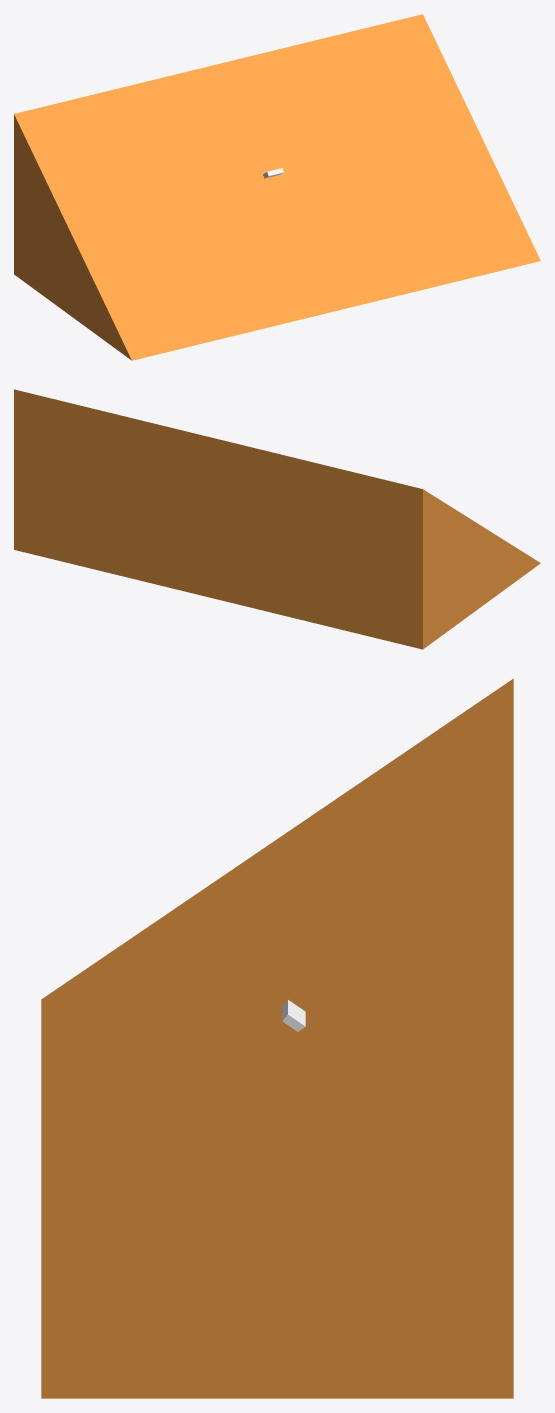
Rendered from ramp.glb.
3 renders of one model, top to bottom at view 1: azimuth 30°, elevation 25°; view 2: azimuth 150°, elevation 25°; view 3: azimuth 270°, elevation 25°, orthographic. The views are drawn at different scales.
Visible parts, largest first — view 1: JumpRamp; view 2: JumpRamp; view 3: JumpRamp.
Part boxes in pixels (box(x1,y1,x2,y2)): JumpRamp: box(14, 14, 540, 360); JumpRamp: box(14, 389, 540, 649); JumpRamp: box(41, 678, 513, 1398).
Size of the model in its own units: 4 by 1.5 by 2.
